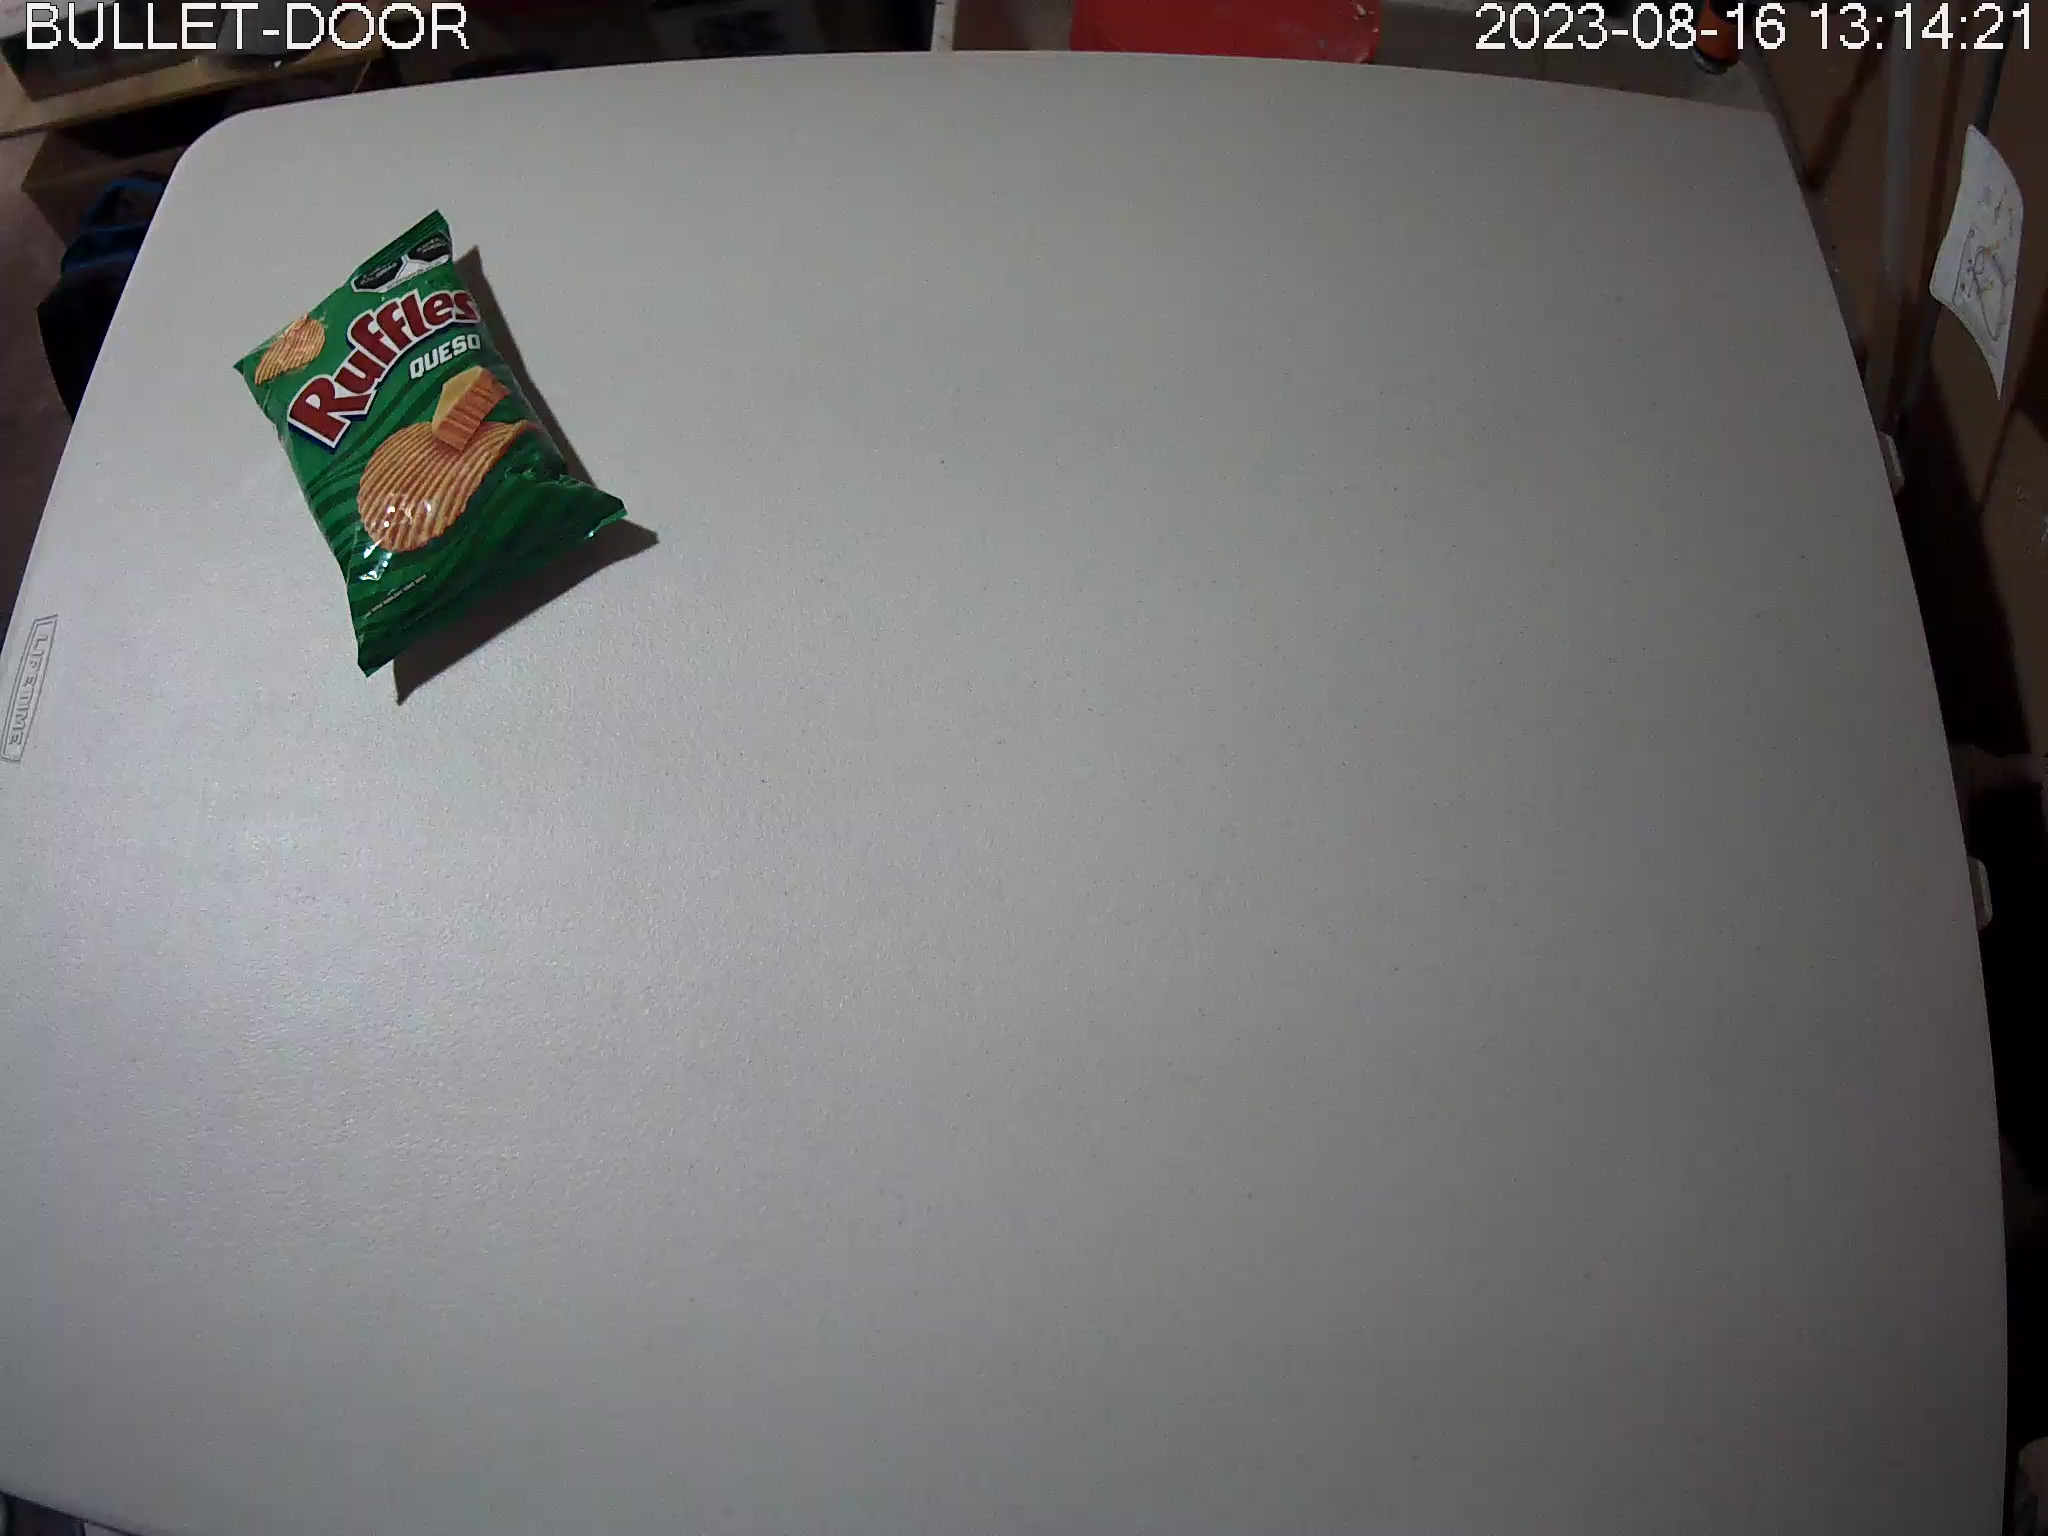RufflesQ_48_F: (232, 210, 631, 678)
